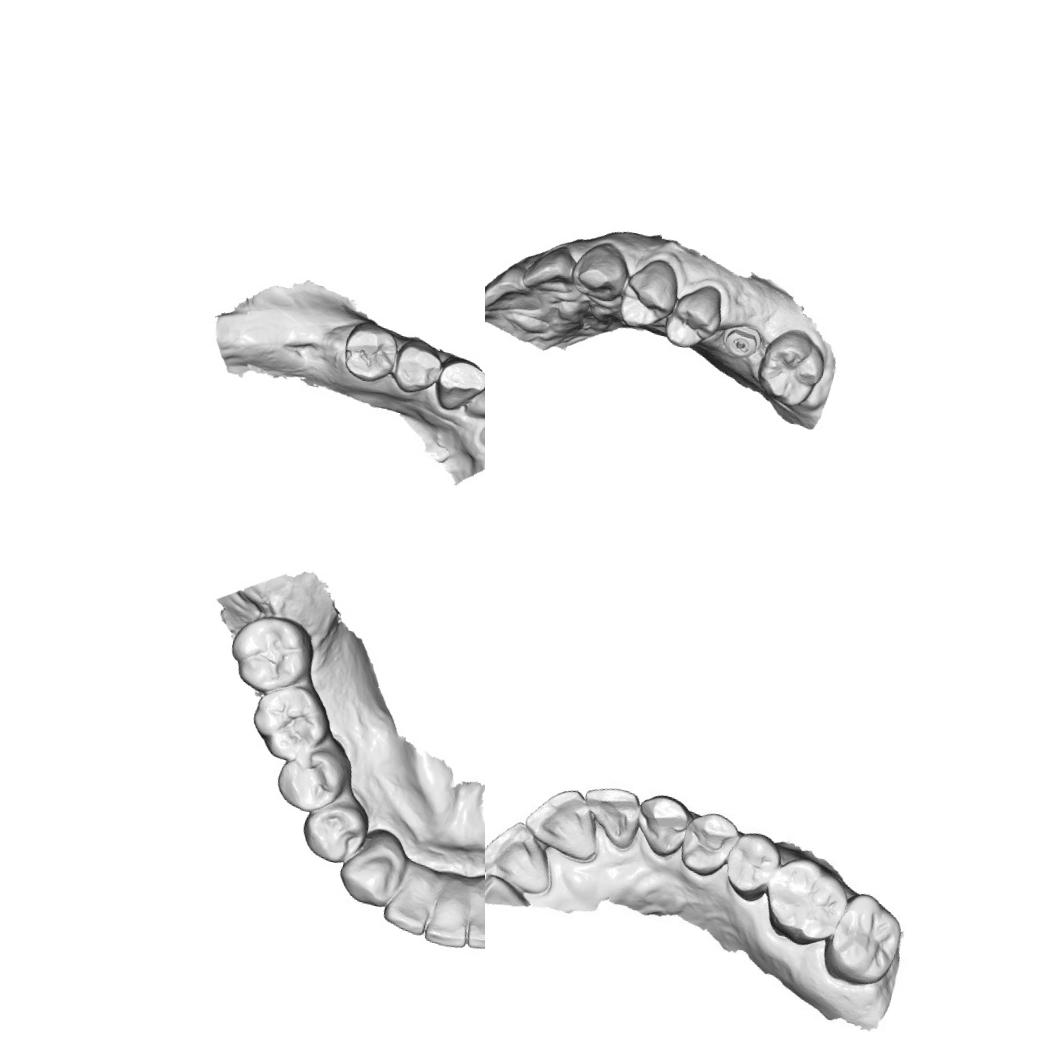canine: (333, 832, 410, 914), (568, 234, 636, 306), (630, 789, 698, 861), (430, 352, 485, 419)
implant_minus: (717, 318, 762, 362)
incisor: (515, 778, 608, 872), (485, 813, 562, 898), (570, 779, 645, 857), (485, 258, 549, 324), (420, 882, 479, 952), (378, 872, 439, 939), (518, 237, 582, 299), (460, 894, 485, 959), (460, 366, 485, 427)
molar: (756, 850, 856, 952), (221, 606, 322, 704), (817, 886, 910, 992), (244, 676, 338, 772), (749, 322, 834, 416)
premolar: (270, 741, 352, 819), (614, 251, 686, 339), (297, 794, 374, 871), (662, 275, 730, 357), (675, 806, 744, 882), (716, 826, 782, 905), (336, 316, 404, 389), (387, 332, 448, 401)
